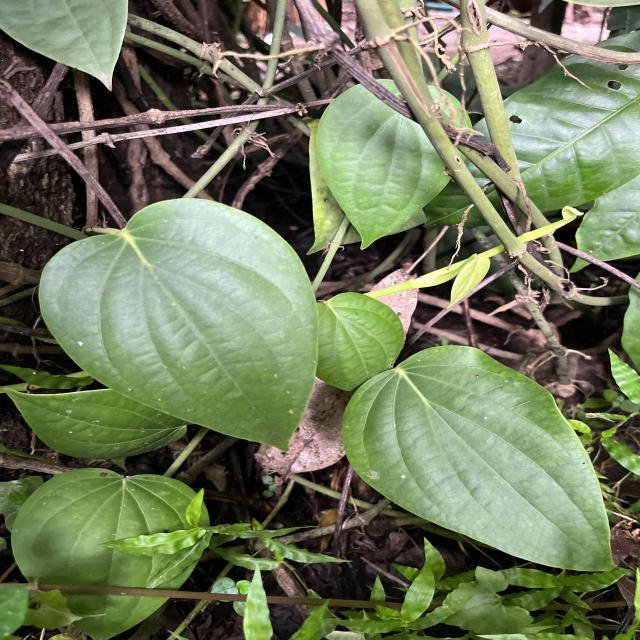Piper nigrum: (36, 196, 322, 454), (338, 343, 622, 574)
